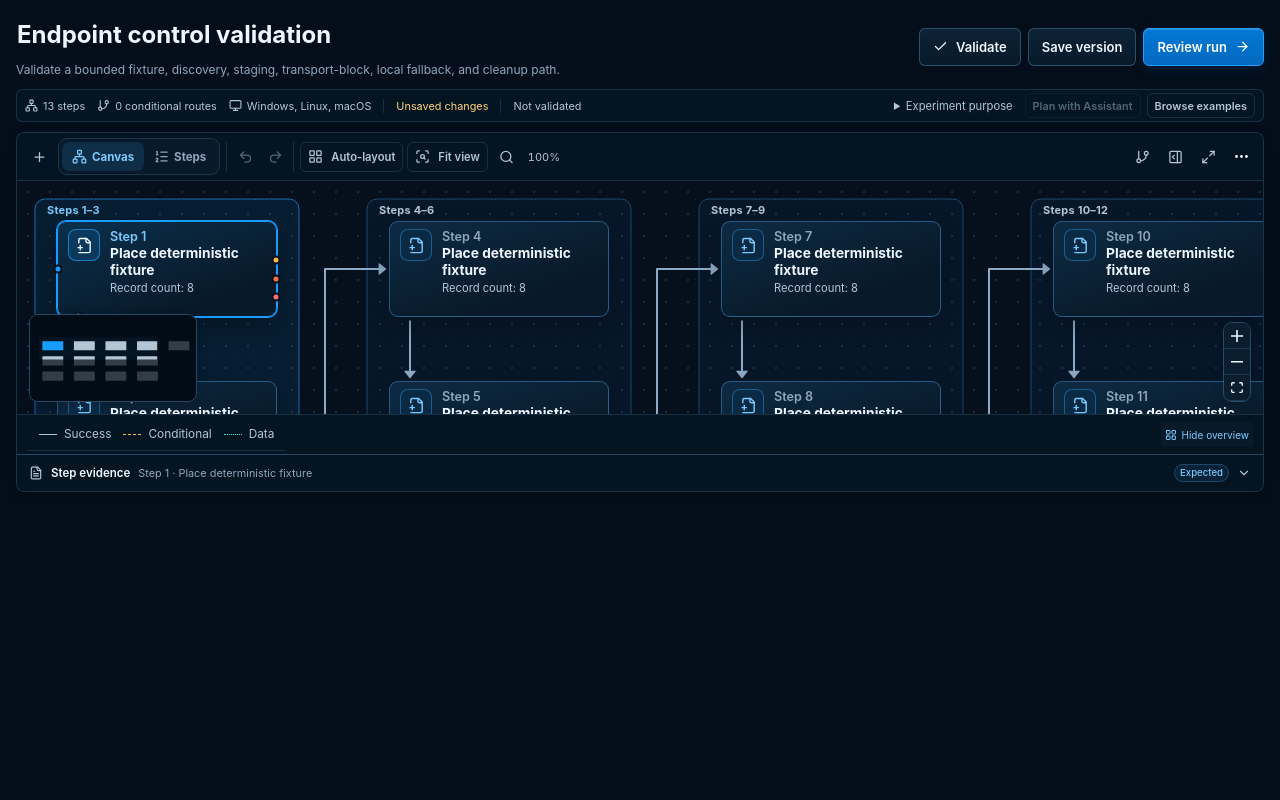
Test: shows an actionable Validate refusal and reveals the disconnected step without changing the graph
Click the button "Validate".
click(970, 47)  # box [919,28,1021,66]
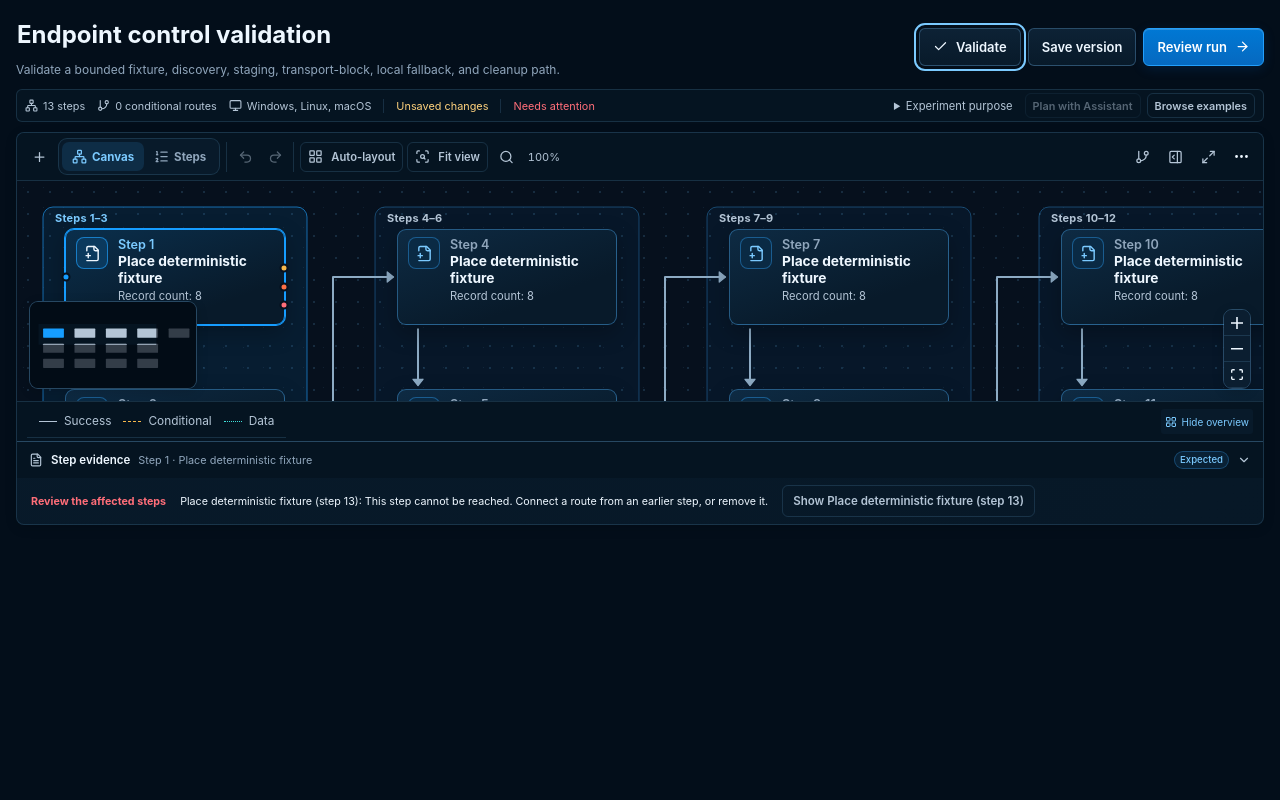
Now the text "Review the affected steps" is shown, box [31,495,166,508]
Click the button "Show Place deterministic fixture (step 13)".
click(909, 501)  # box [782,485,1035,517]
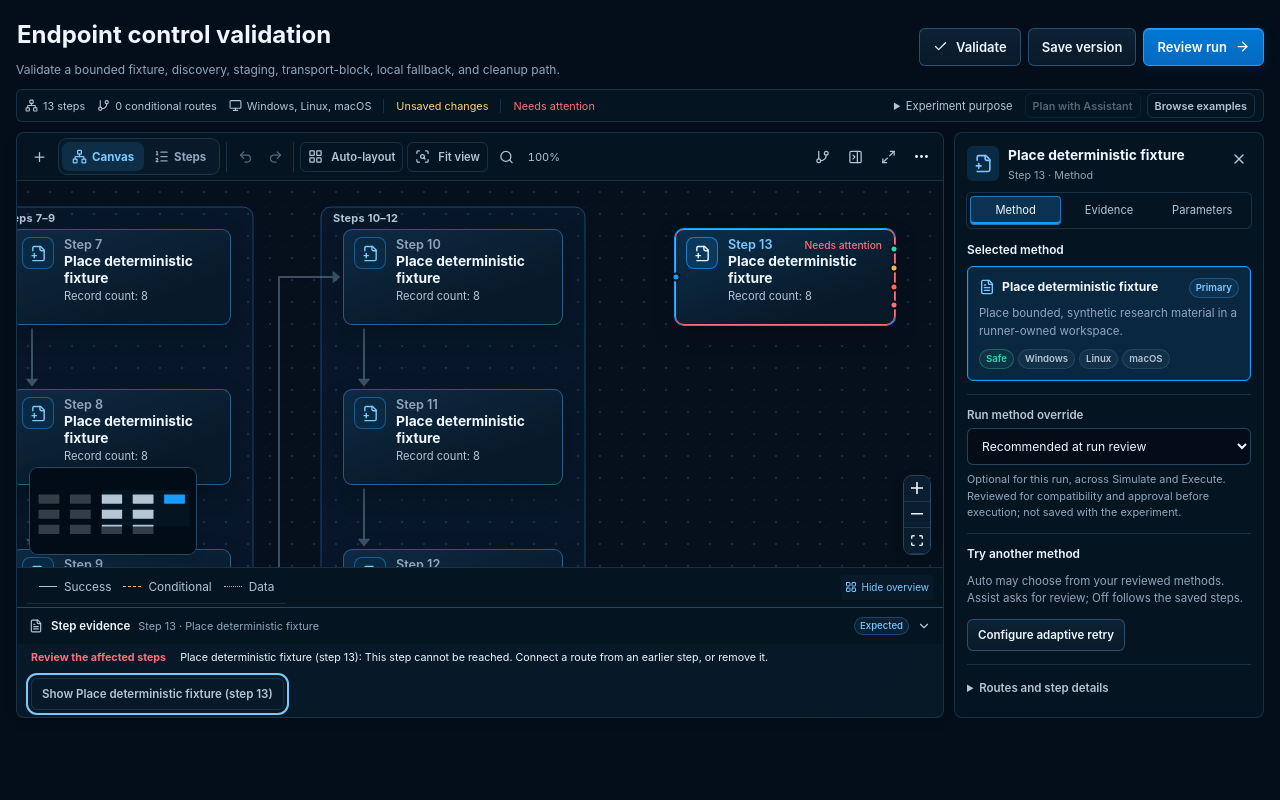
Now the element named "Step ID" holds "step_13", box [979,681,1109,695]
